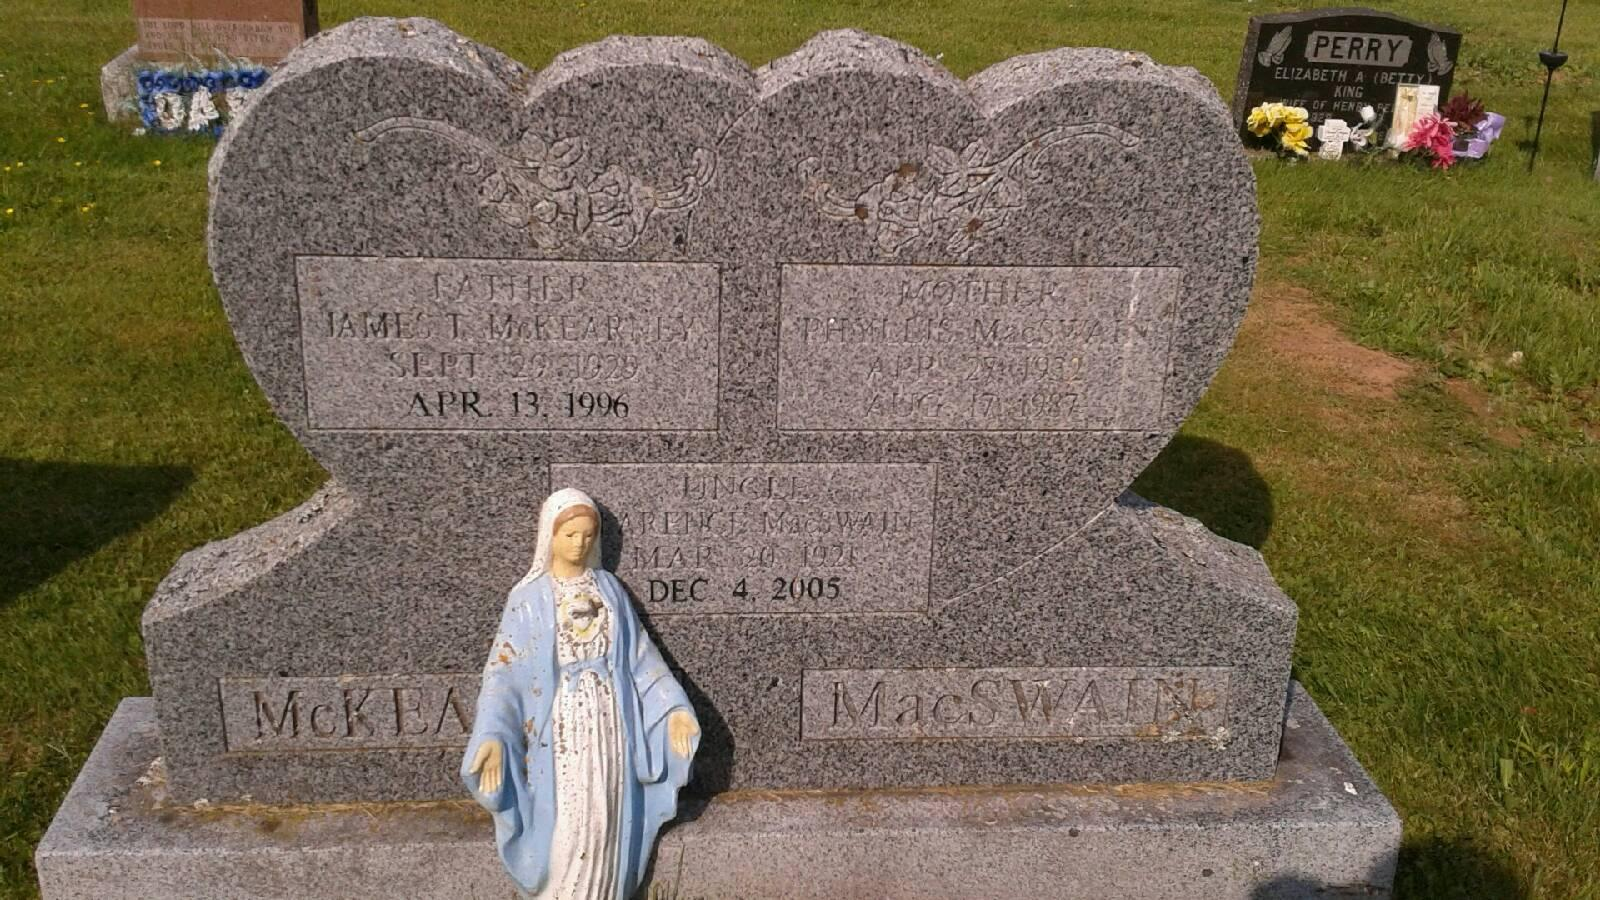upright: (21, 8, 1423, 892)
